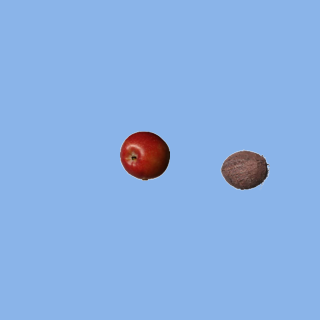Apple Braeburn: (119, 130, 169, 180)
Cocos: (219, 144, 269, 194)
